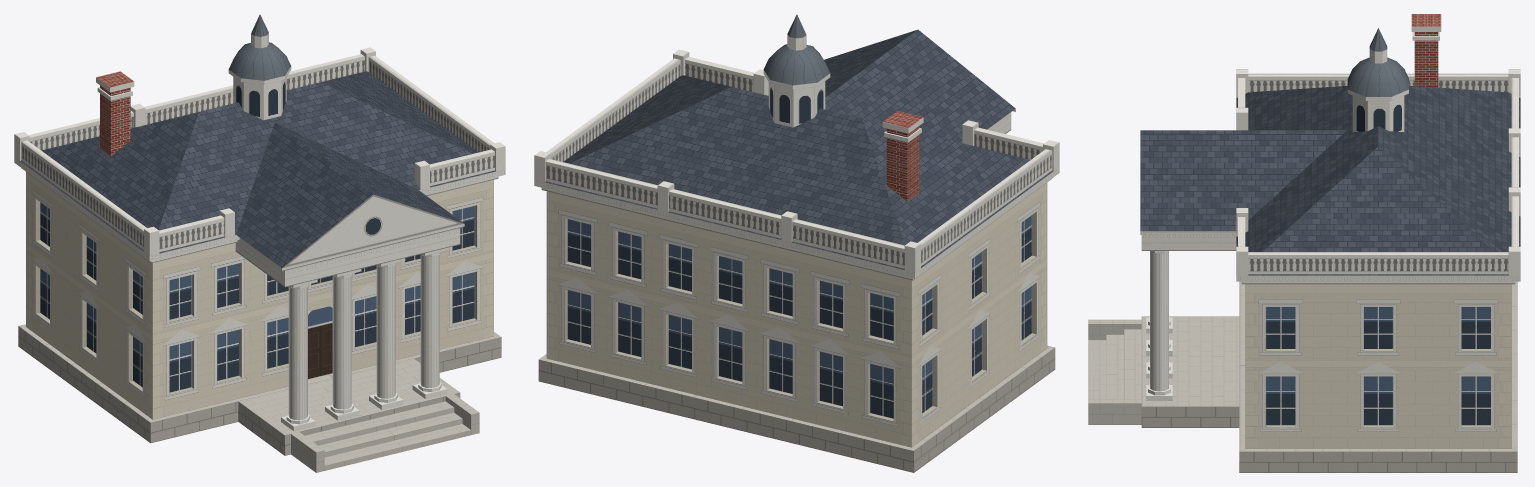
Rendered from whitehousemedium.glb.
3 renders of one model, left to right at view 1: azimuth 30°, elevation 25°; view 2: azimuth 150°, elevation 25°; view 3: azimuth 270°, elevation 25°, orthographic. The views are drawn at different scales.
Parts seen in each view (by area): view 1: WhiteHouseMedium; view 2: WhiteHouseMedium; view 3: WhiteHouseMedium.
Part boxes in pixels (x1=…): WhiteHouseMedium: x1=14, y1=14, x2=505, y2=472; WhiteHouseMedium: x1=534, y1=14, x2=1059, y2=472; WhiteHouseMedium: x1=1088, y1=14, x2=1520, y2=472.
Bounding box in the file's own units: 14.6 × 13.25 × 14.6.
1 material, 1 textured.
